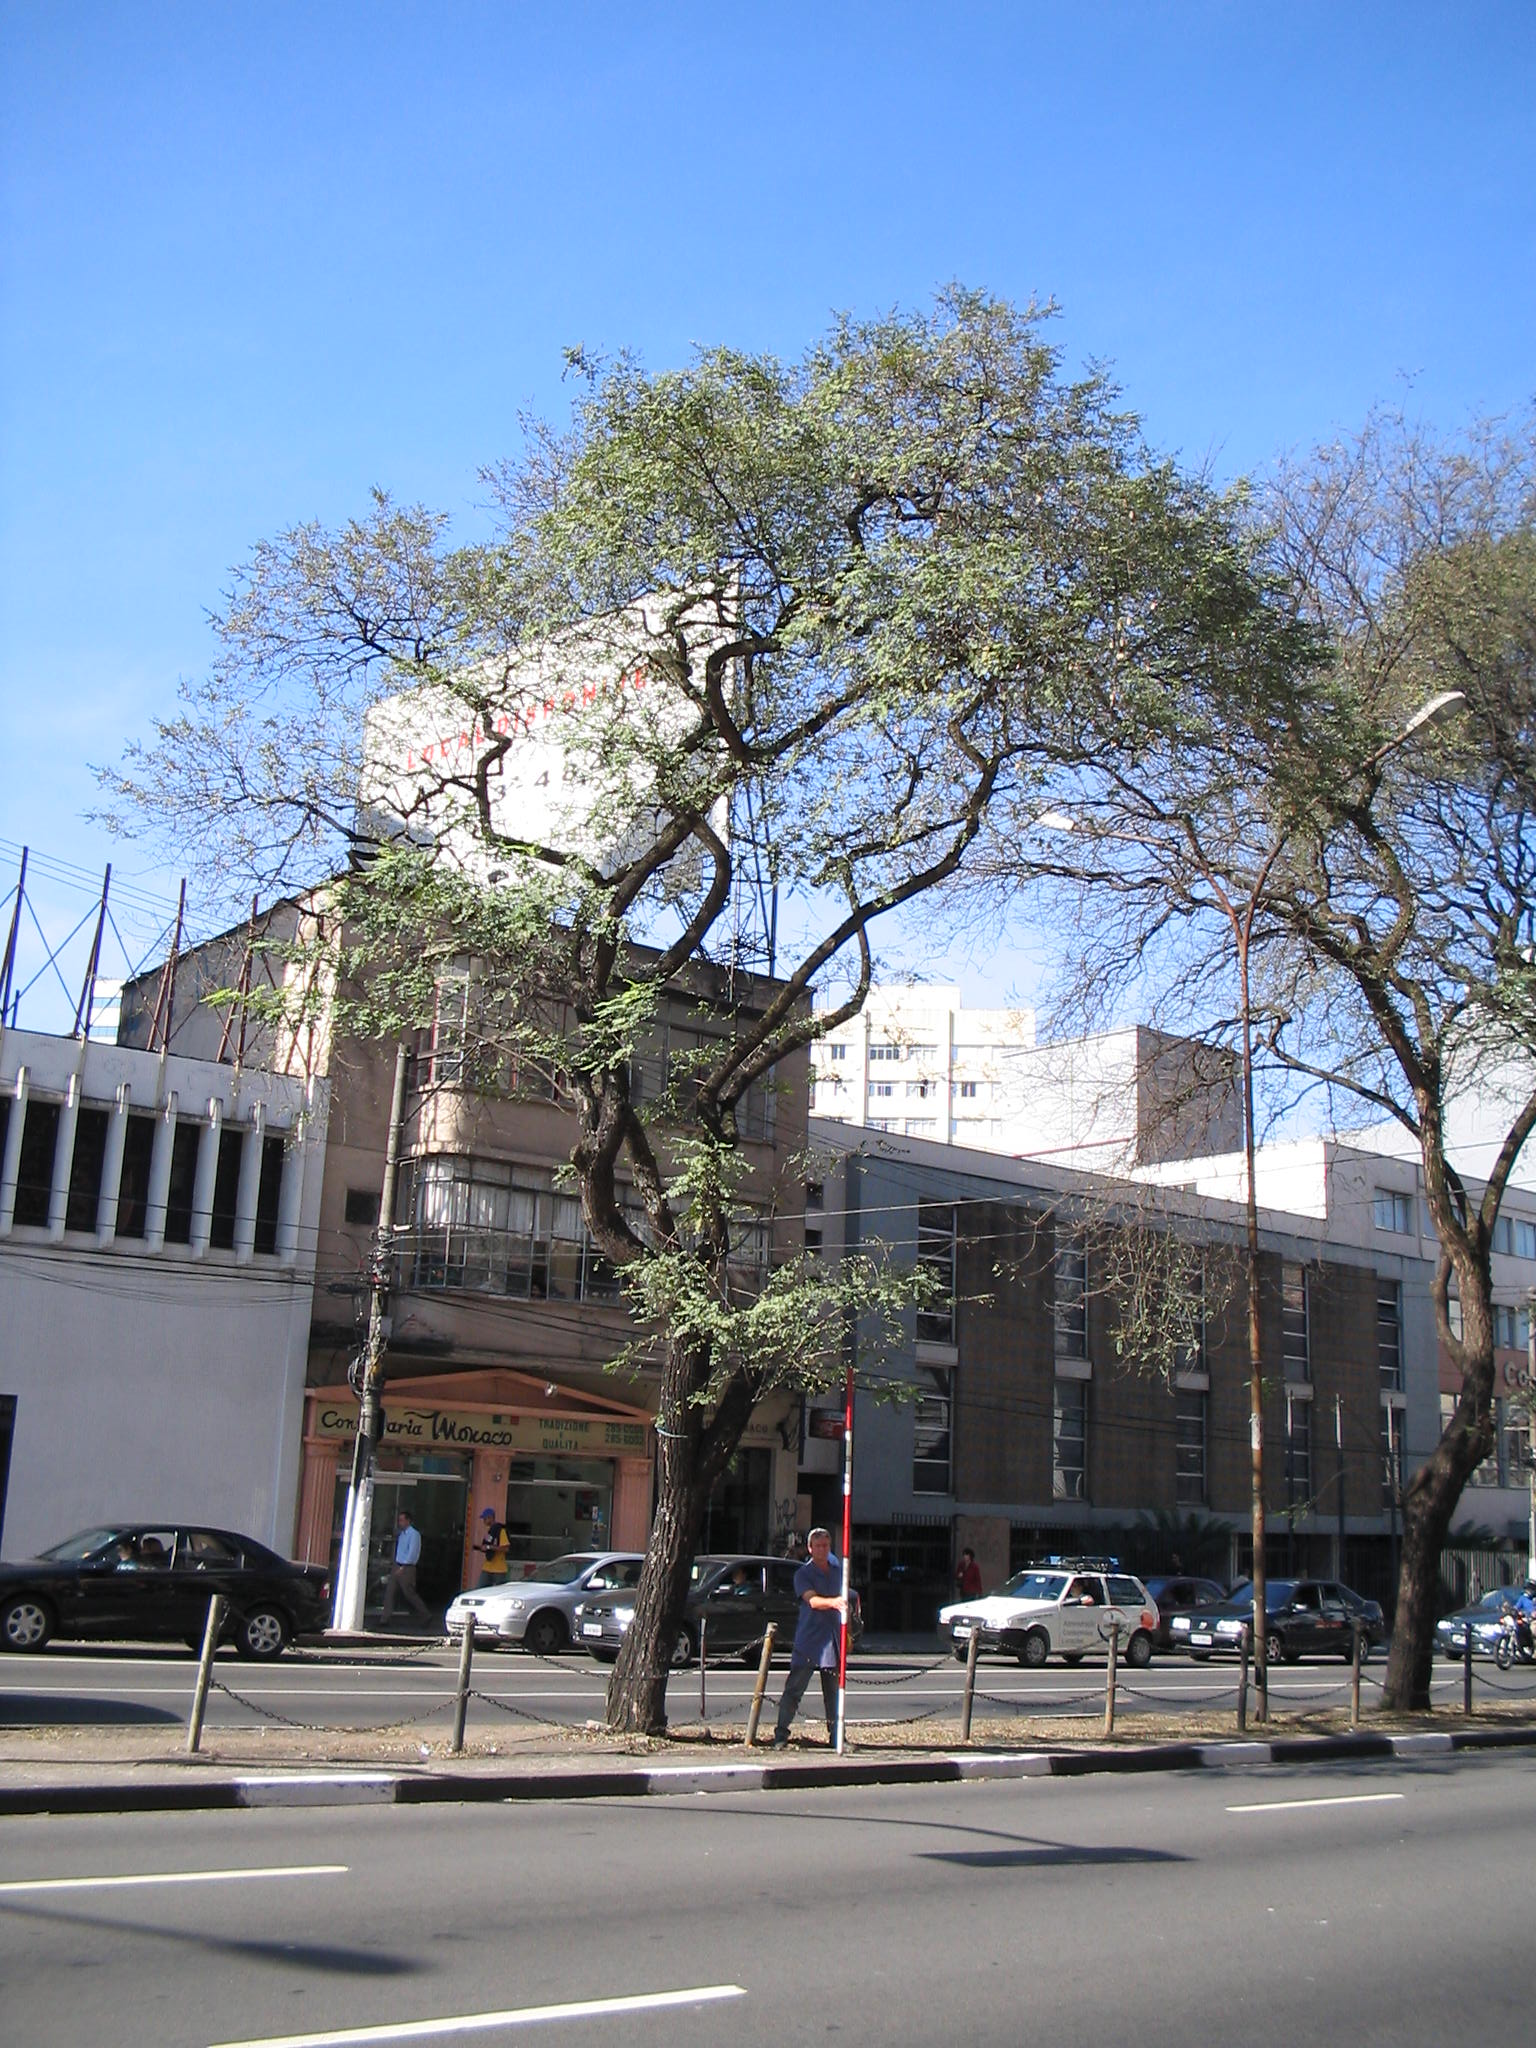crown: (92, 281, 1320, 1119), (1175, 385, 1526, 1061)
stem: (578, 1469, 737, 1732), (1359, 1427, 1496, 1709)
stick: (824, 1355, 866, 1761)
tree: (82, 276, 1317, 1732), (1163, 377, 1530, 1717)
